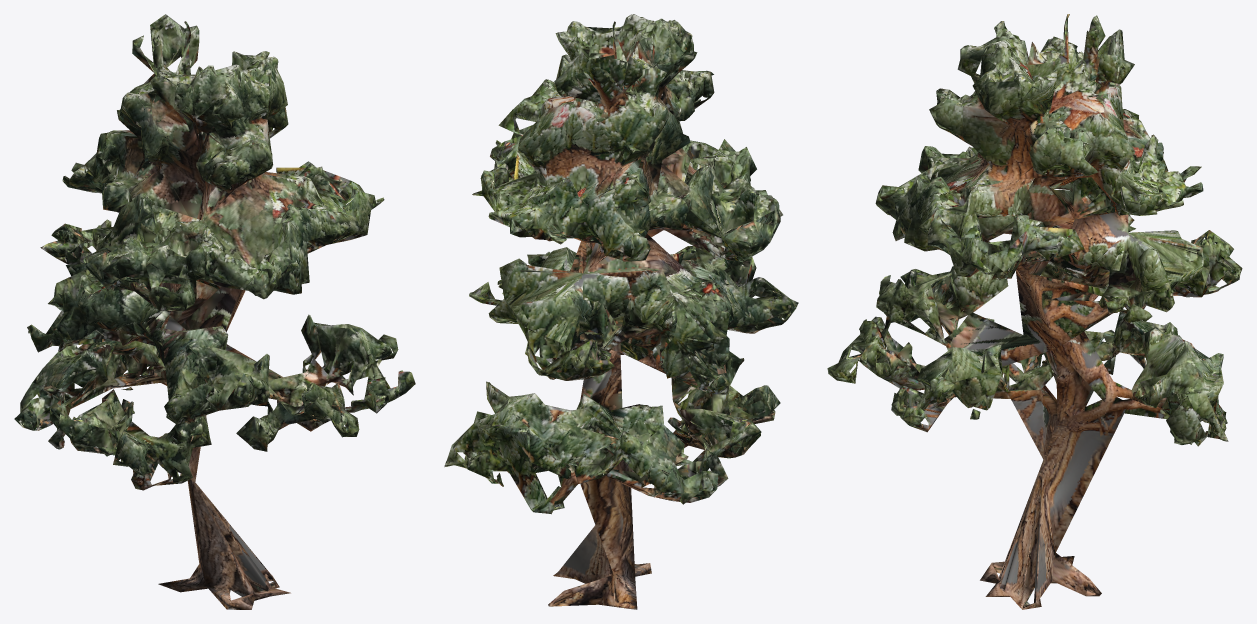
File: pine.glb
3 views of the same model, side by side, from view 1: azimuth 30°, elevation 25°; view 2: azimuth 150°, elevation 25°; view 3: azimuth 270°, elevation 25° (orthographic). The views are drawn at different scales.
Parts seen in each view (by area): view 1: texture_mapping; view 2: texture_mapping; view 3: texture_mapping.
Boxes of the visible parts, <box> form: texture_mapping: <box>14,14,415,609</box>; texture_mapping: <box>444,14,798,609</box>; texture_mapping: <box>827,14,1242,609</box>.
Bounding box in the file's own units: 0.5204 × 0.9647 × 0.646.
Materials: 1 (1 with a texture image).
